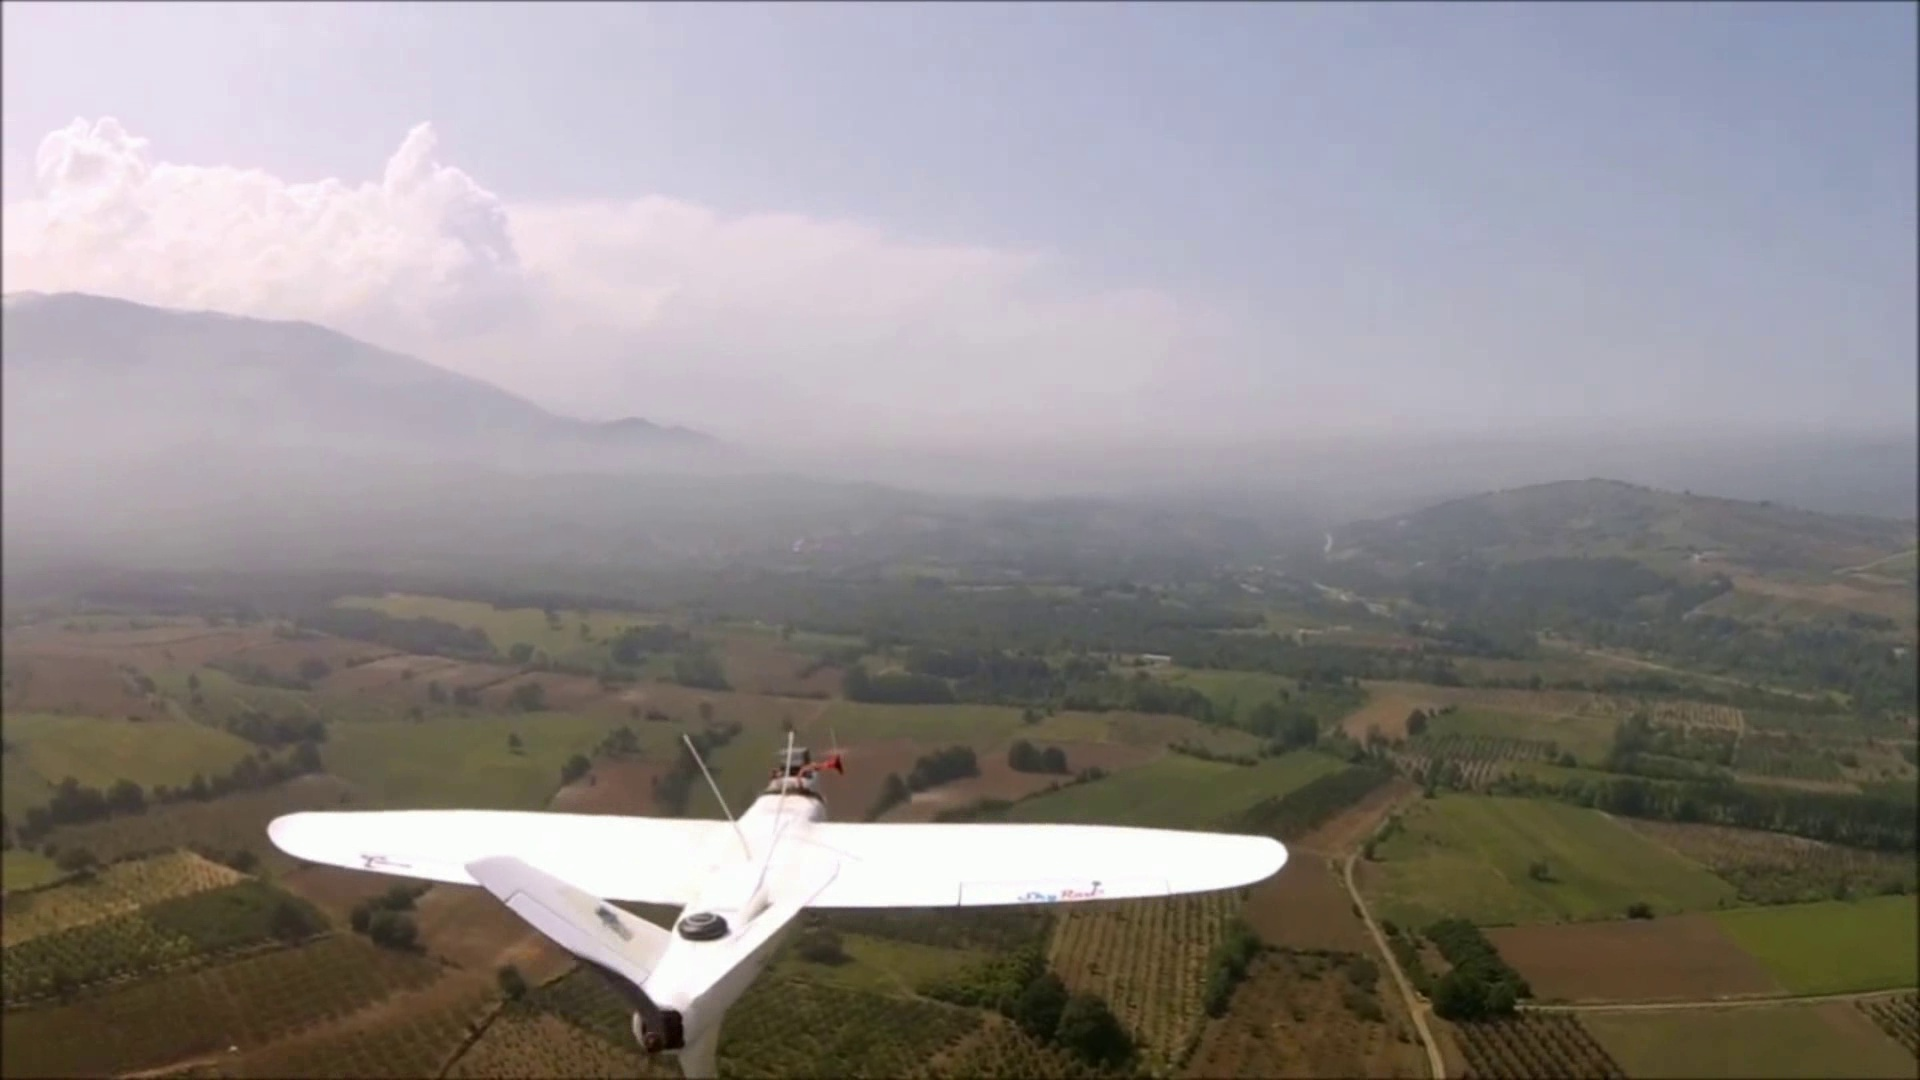airplane: (264, 804, 1288, 1072)
